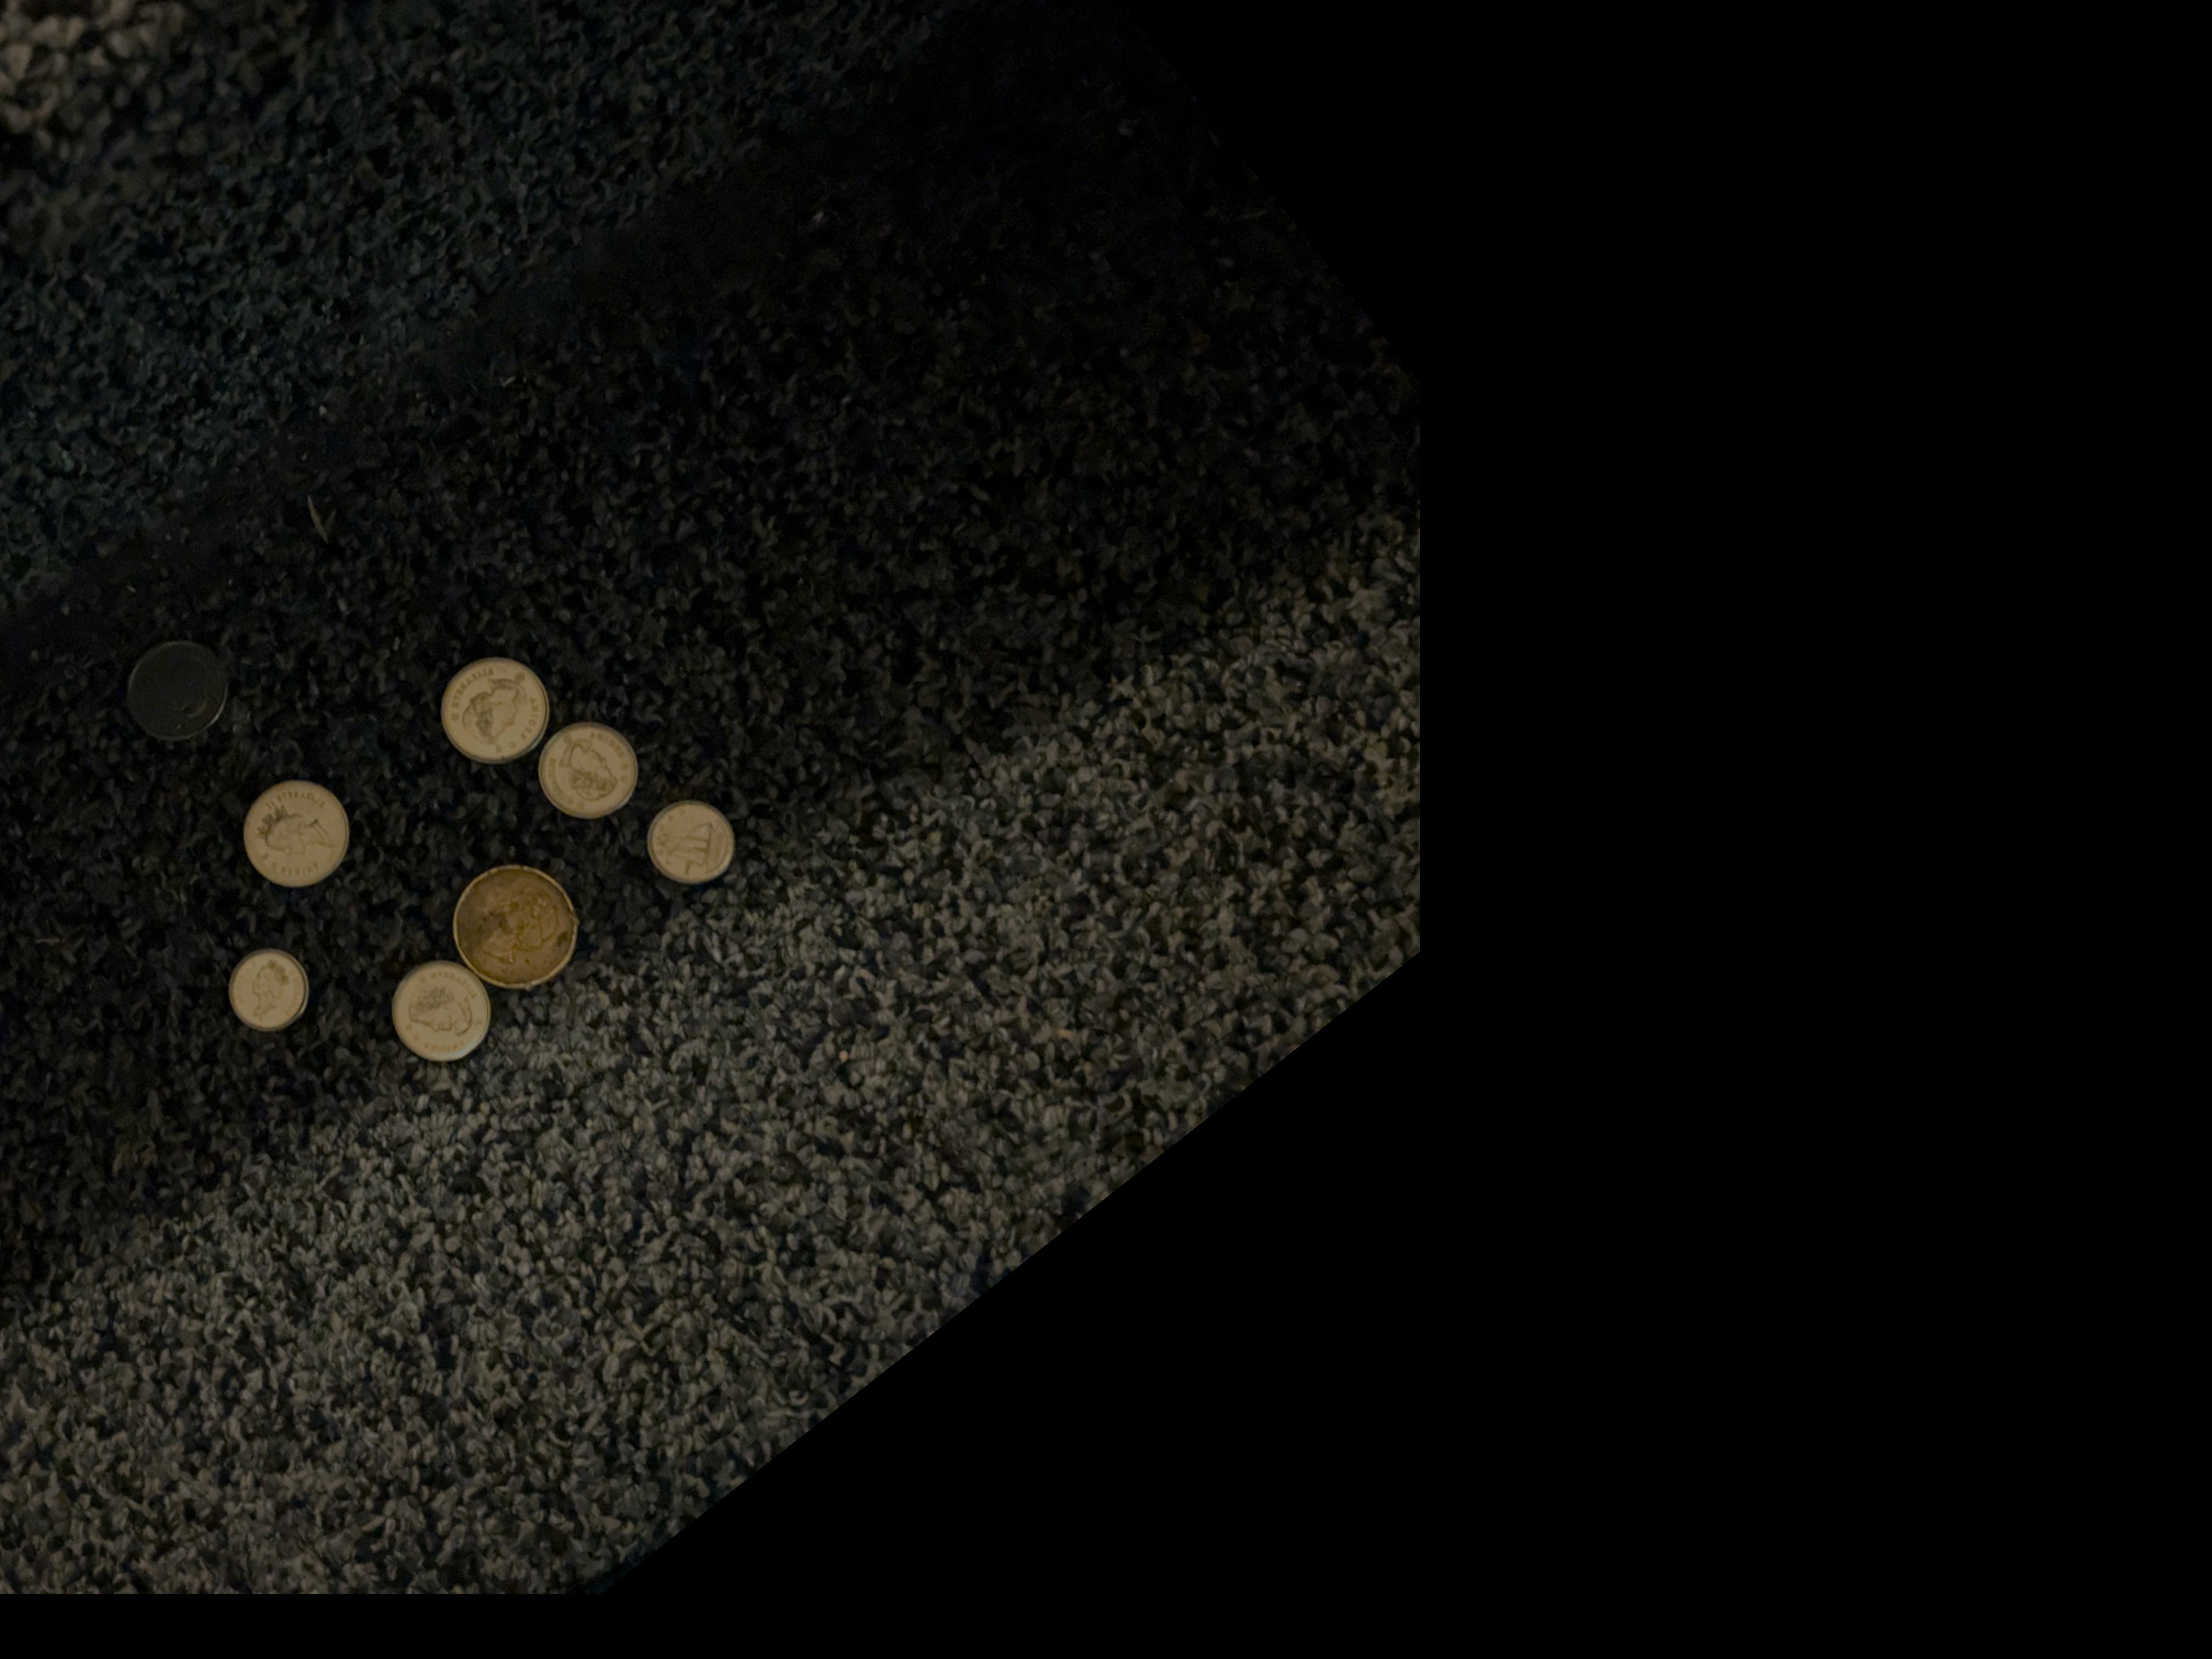dime: (646, 798, 737, 889), (226, 950, 310, 1026)
loonie: (451, 864, 583, 995)
nickel: (125, 640, 233, 742), (390, 962, 495, 1061), (540, 721, 636, 810)
quarter: (240, 775, 354, 889), (437, 657, 547, 760)
